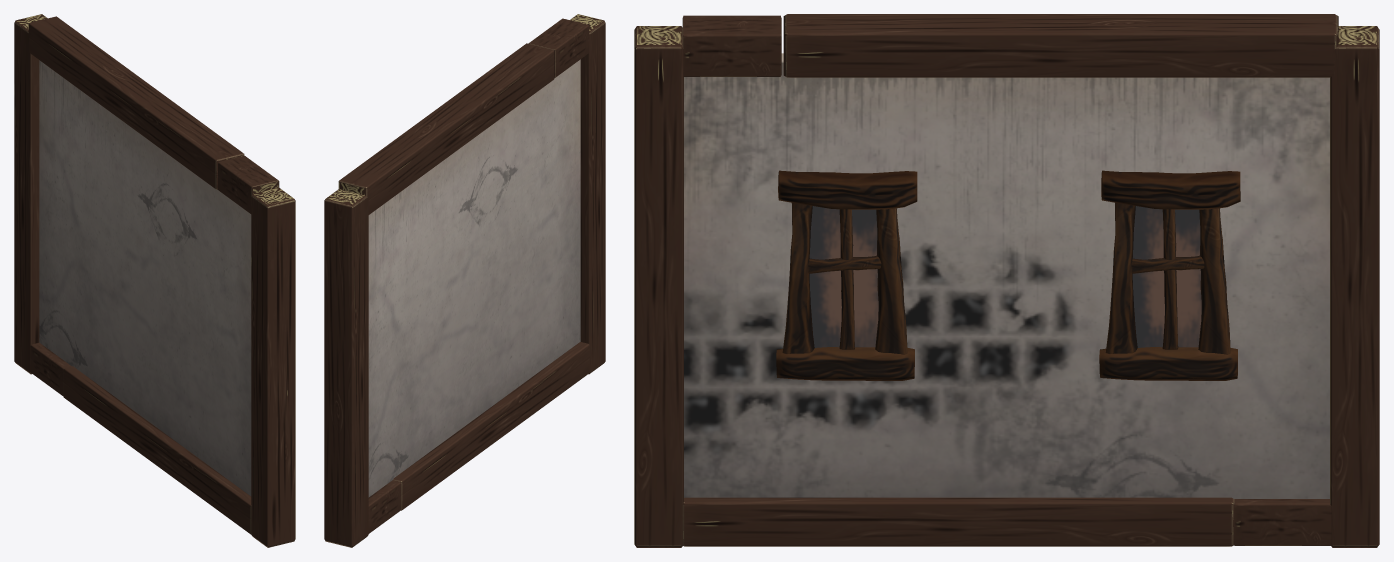
Rendered from Wall_Piece_R4.fbx.
3 renders of one model, left to right at view 1: azimuth 30°, elevation 25°; view 2: azimuth 150°, elevation 25°; view 3: azimuth 270°, elevation 25°, orthographic. The views are drawn at different scales.
Visible parts, largest first — view 1: Wall_20.001; view 2: Wall_20.001; view 3: Wall_20.001.
Boxes of the visible parts, x1,y1,x2,y2 form: Wall_20.001: [14, 14, 295, 547]; Wall_20.001: [324, 14, 605, 547]; Wall_20.001: [634, 14, 1379, 547].
Size of the model in its own units: 37.67 by 357 by 468.
